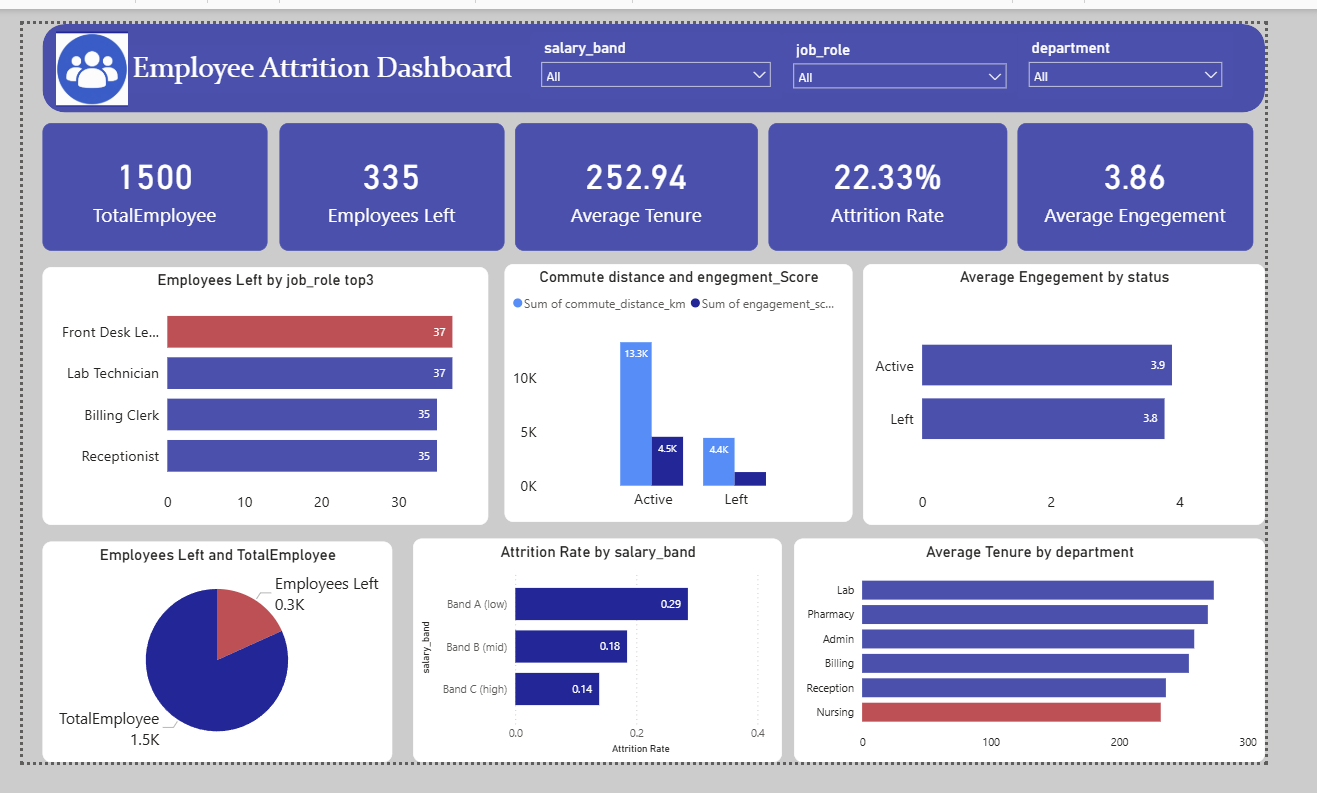

Layout of this report page (visuals, bound fields, positions):
{"tool":"powerbi","page":{"name":"Page 2","canvas":[1380,820],"ordinal":1},"visuals":[{"type":"shape","box":[21.7,0,1358.3,98.3],"z":0},{"type":"image","box":[36.7,8.3,80,83.3],"z":1000},{"type":"textbox","box":[116.7,23.3,446.7,53.3],"z":2000},{"type":"slicer","fields":{"Values":["hr_employees.salary_band"]},"box":[563.3,8.3,280,75],"z":3000},{"type":"slicer","fields":{"Values":["hr_employees.job_role"]},"box":[843.3,10,261.7,66.7],"z":4000},{"type":"slicer","fields":{"Values":["hr_employees.department"]},"box":[1105,8.3,240,75],"z":5000},{"type":"clusteredBarChart","title":"Employees Left by job_role top3","fields":{"Category":["hr_employees.job_role"],"Y":["_MeasureTable.Employees Left"]},"box":[21.7,270,495,286.7],"z":6000},{"type":"card","fields":{"Values":["_MeasureTable.TotalEmployee"]},"box":[21.7,110,250,141.7],"z":7000},{"type":"card","fields":{"Values":["_MeasureTable.Employees Left"]},"box":[285,110,250,141.7],"z":8000},{"type":"card","fields":{"Values":["_MeasureTable.Average Tenure"]},"box":[546.7,110,270,141.7],"z":9000},{"type":"card","fields":{"Values":["_MeasureTable.Attrition Rate"]},"box":[828.3,110,265,141.7],"z":10000},{"type":"card","fields":{"Values":["_MeasureTable.Average Engegement"]},"box":[1105,110,261.7,141.7],"z":11000},{"type":"clusteredColumnChart","title":"Commute distance and engegment_Score","fields":{"Y":["Sum(hr_employees.commute_distance_km)","Sum(hr_employees.engagement_score)"],"Category":["hr_employees.status"]},"box":[535,266.7,386.7,286.7],"z":12000},{"type":"barChart","fields":{"Category":["hr_employees.status"],"Y":["_MeasureTable.Average Engegement"]},"box":[933.3,266.7,446.7,290],"z":13000},{"type":"pieChart","fields":{"Y":["_MeasureTable.Employees Left","_MeasureTable.TotalEmployee"]},"box":[21.7,575,388.3,245],"z":14000},{"type":"barChart","fields":{"Category":["hr_employees.department","hr_employees.salary_band"],"Y":["_MeasureTable.Attrition Rate"]},"box":[433.3,571.7,410,248.3],"z":15000},{"type":"barChart","fields":{"Category":["hr_employees.department"],"Y":["_MeasureTable.Average Tenure"]},"box":[856.7,571.7,523.3,248.3],"z":16000}]}

Visuals, with their boxes in screenshot pixels (x1, y1, x2, y2), scaled from the page's 1380x820 canvas onto the 1317x793 screenshot:
shape: (x1=21, y1=0, x2=1316, y2=95)
image: (x1=35, y1=8, x2=111, y2=89)
textbox: (x1=111, y1=23, x2=538, y2=74)
slicer - hr_employees.salary_band: (x1=538, y1=8, x2=805, y2=81)
slicer - hr_employees.job_role: (x1=805, y1=10, x2=1055, y2=74)
slicer - hr_employees.department: (x1=1055, y1=8, x2=1284, y2=81)
"Employees Left by job_role top3" clusteredBarChart: (x1=21, y1=261, x2=493, y2=538)
card - _MeasureTable.TotalEmployee: (x1=21, y1=106, x2=259, y2=243)
card - _MeasureTable.Employees Left: (x1=272, y1=106, x2=511, y2=243)
card - _MeasureTable.Average Tenure: (x1=522, y1=106, x2=779, y2=243)
card - _MeasureTable.Attrition Rate: (x1=790, y1=106, x2=1043, y2=243)
card - _MeasureTable.Average Engegement: (x1=1055, y1=106, x2=1304, y2=243)
"Commute distance and engegment_Score" clusteredColumnChart: (x1=511, y1=258, x2=880, y2=535)
barChart - hr_employees.status x _MeasureTable.Average Engegement: (x1=891, y1=258, x2=1316, y2=538)
pieChart - _MeasureTable.Employees Left x _MeasureTable.TotalEmployee: (x1=21, y1=556, x2=391, y2=792)
barChart - hr_employees.department x hr_employees.salary_band: (x1=414, y1=553, x2=805, y2=792)
barChart - hr_employees.department x _MeasureTable.Average Tenure: (x1=818, y1=553, x2=1316, y2=792)
